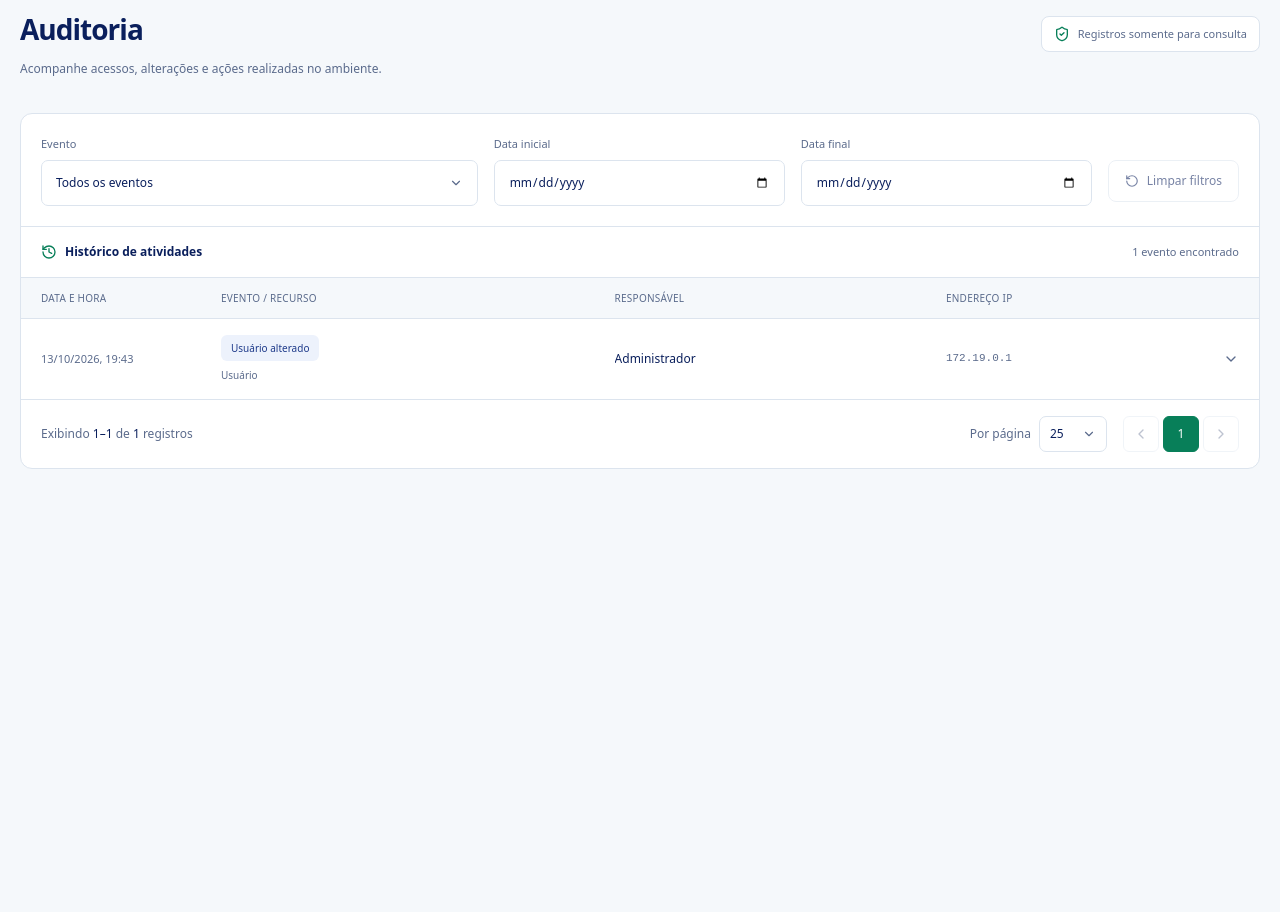
Test case: auditoria › apresenta somente as alterações, com valores legíveis e conteúdo escapado
The image size is (1280, 912).
Click the button that starts with "Usuário alterado" at (640, 359), box [21,319,1259,399]
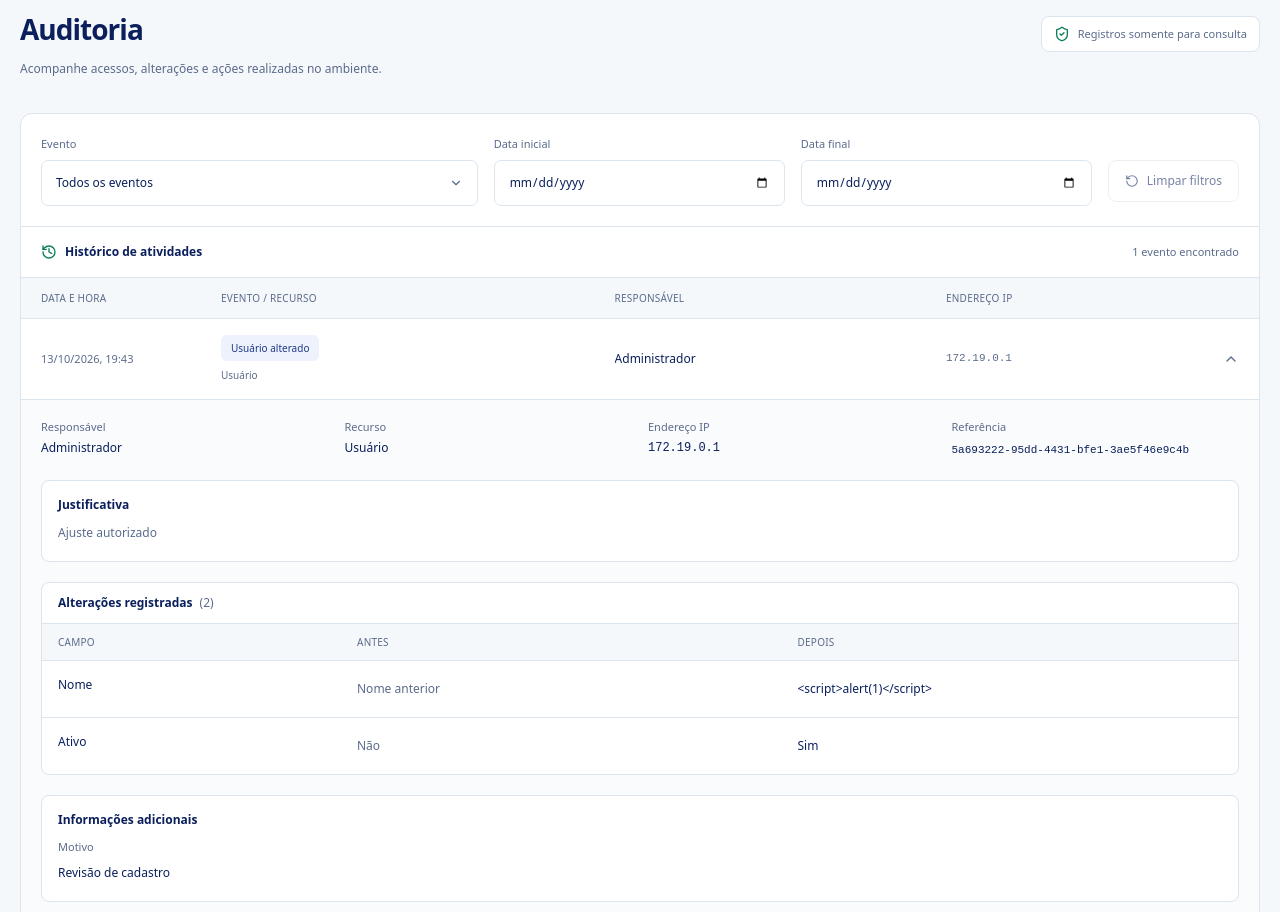
Expected: the element named "Alterações registradas" shows "Nome anterior", [357,680,440,697]
Expected: the element named "Alterações registradas" shows "Sim", [798,737,818,754]
Expected: the element named "Alterações registradas" shows "Não", [357,737,380,754]
